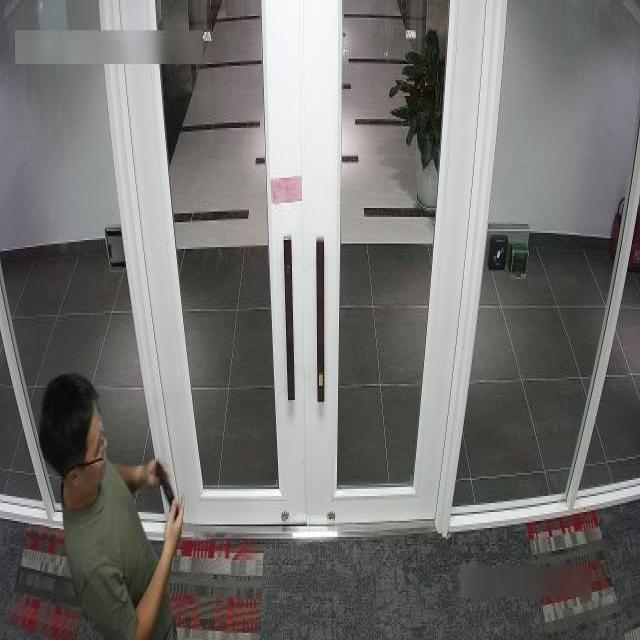bare_hand: (160, 487, 193, 558), (139, 448, 179, 491)
